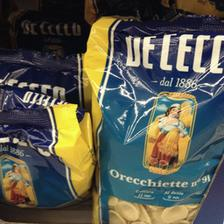Nudeln: (85, 14, 223, 222), (0, 81, 92, 206)
